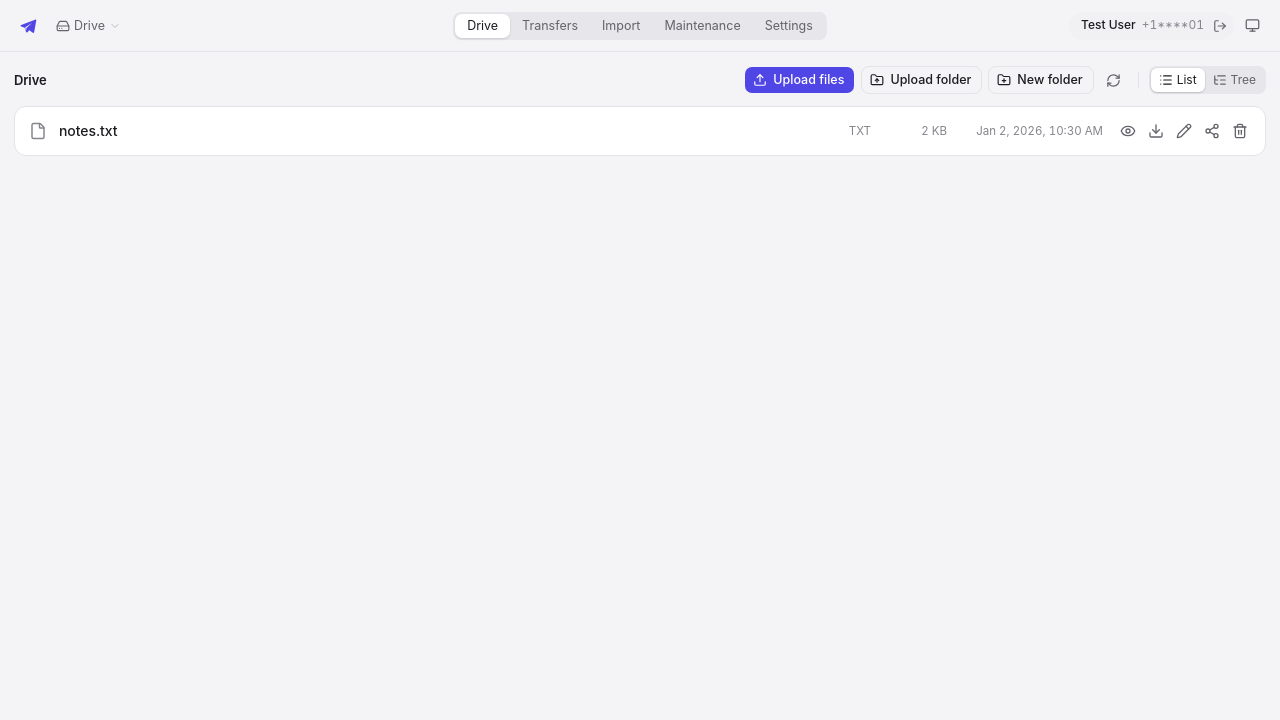
the replace policy is blocked until its confirmation is ticked
The image size is (1280, 720).
Expected: the list is shown, [14,106,1266,156]
Click the button "Upload files". click: (800, 80)
box: [744,66,855,94]
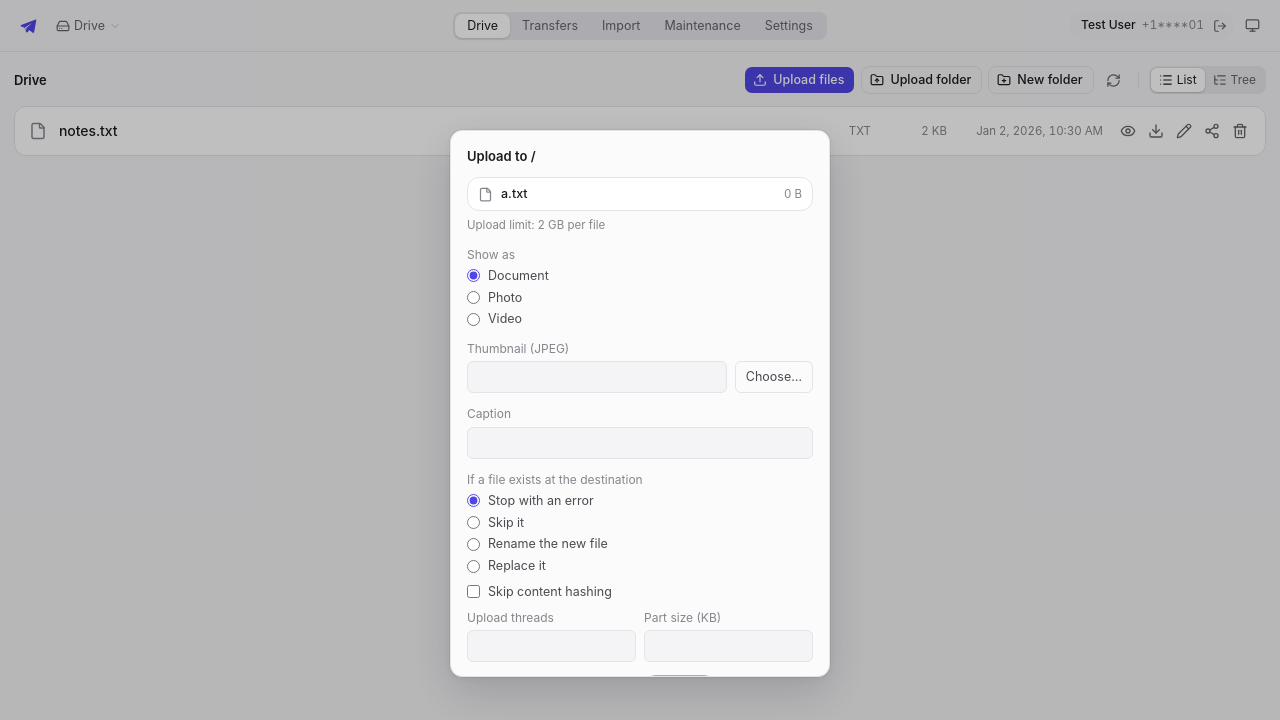
Expected: the list named "Files to upload" is shown, [467,177,813,211]
Click the radio button labelled "Replace it". click: (474, 566)
box: [467,560,480,573]
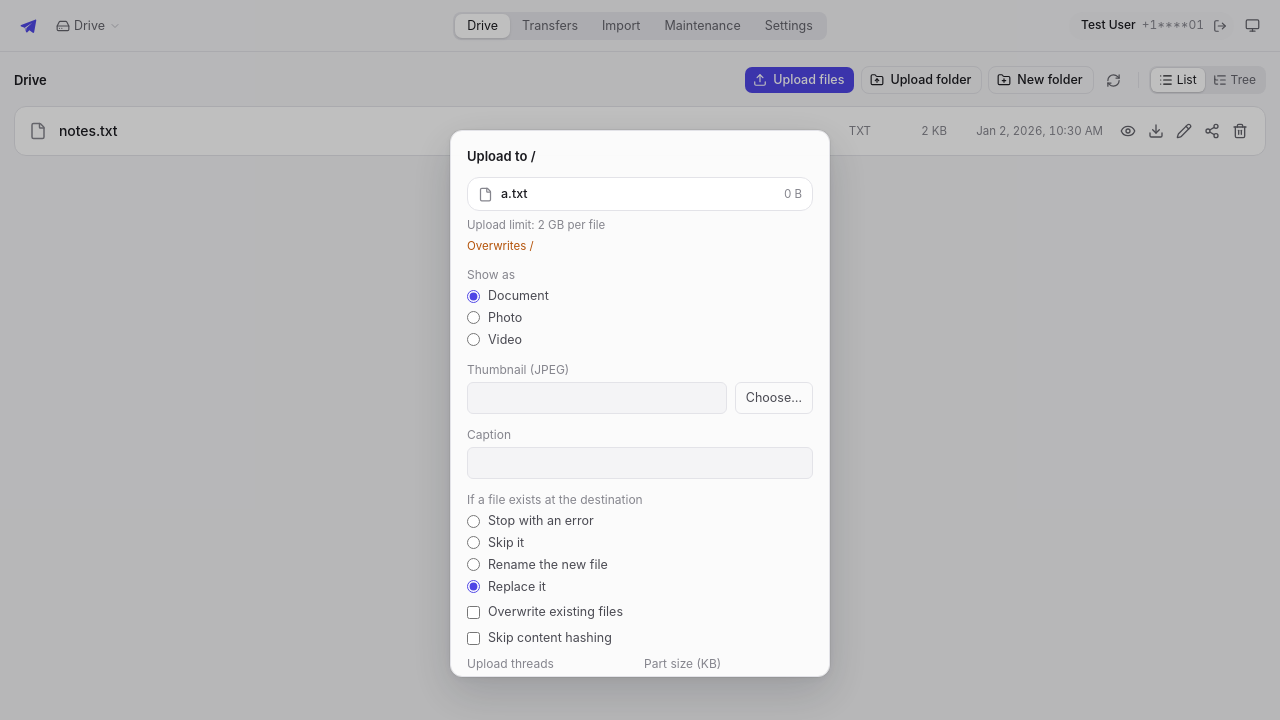
Expected: the text "Overwrites /" is shown, [467,239,534,253]
Click the checkbox labelled "Overwrite existing files". click: (474, 612)
box: [467,606,480,619]
(page scrolled)
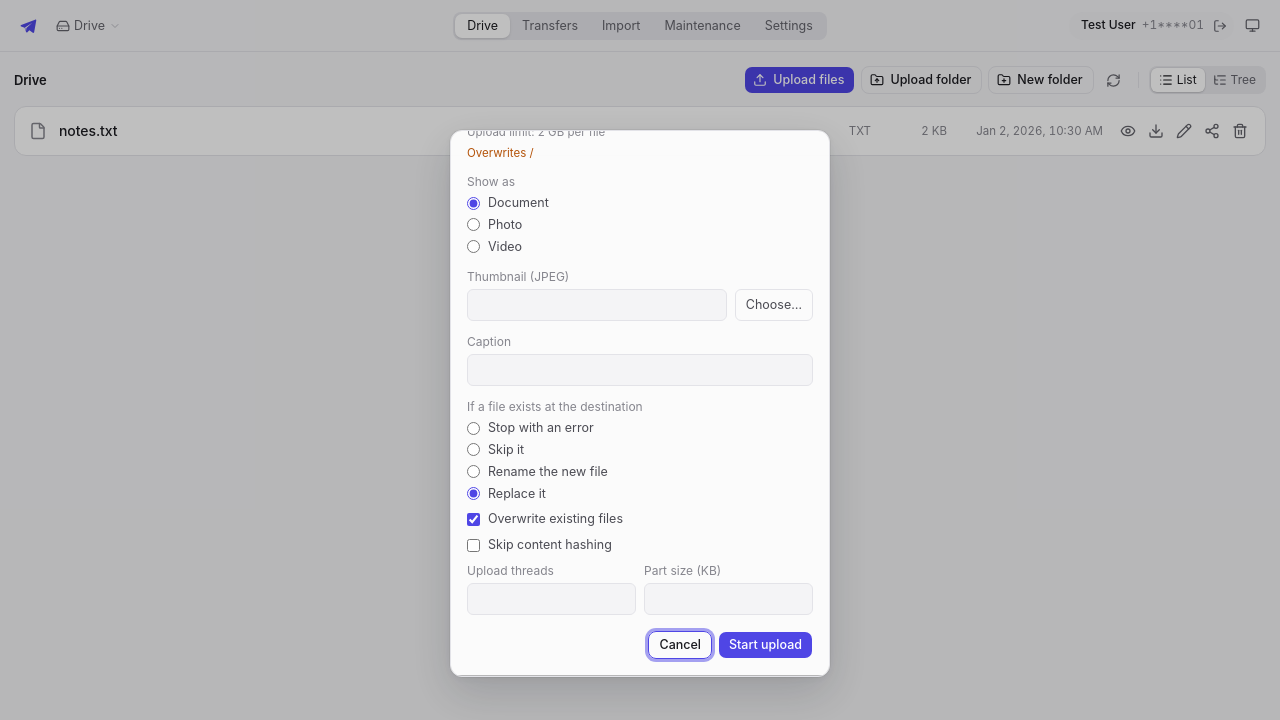
Expected: the button "Start upload" is enabled
Click the button "Start upload". click: (766, 645)
box: [718,631,813,659]
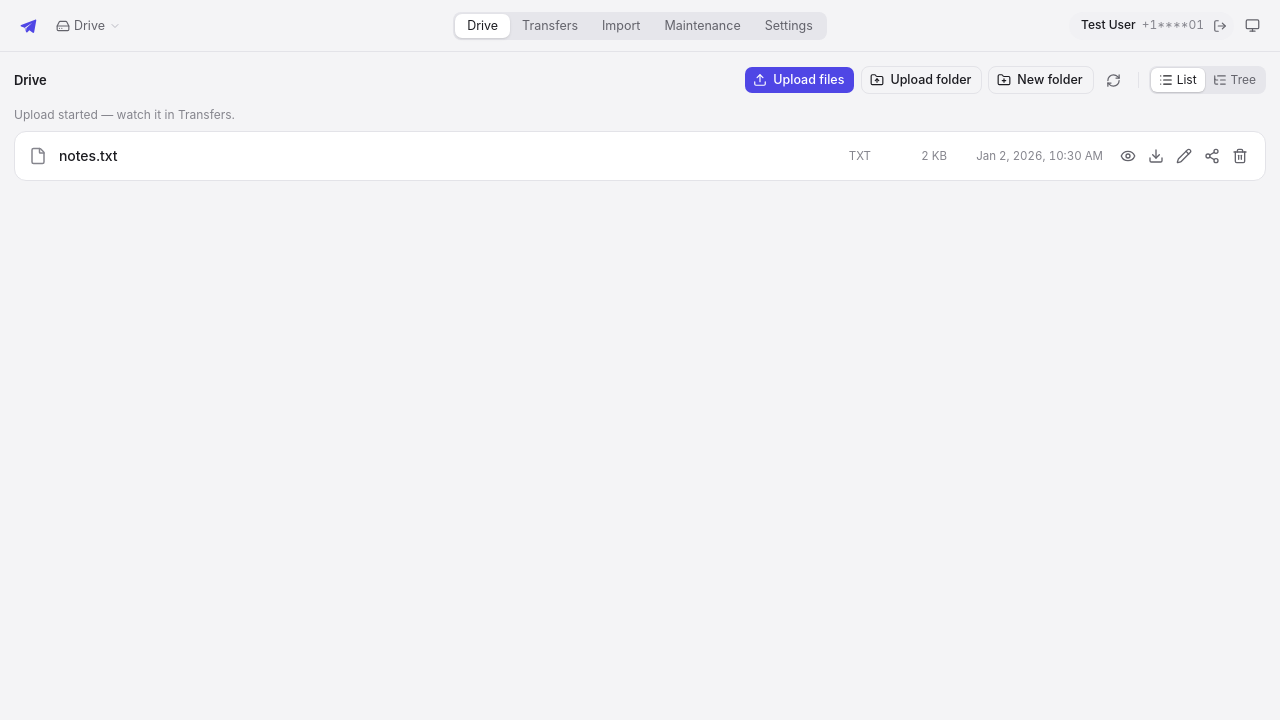
Expected: the text "Upload started — watch it in Transfers." is shown, [14,107,235,122]
